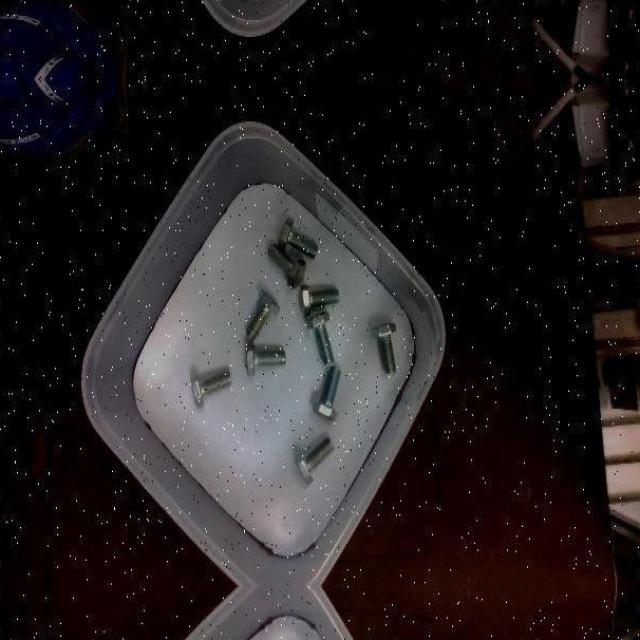screw: (296, 438, 336, 486), (246, 288, 281, 341), (267, 243, 306, 288), (279, 218, 319, 260), (313, 366, 341, 422), (306, 310, 335, 364), (191, 372, 232, 407), (246, 343, 286, 377), (372, 322, 396, 375), (300, 283, 340, 314)
